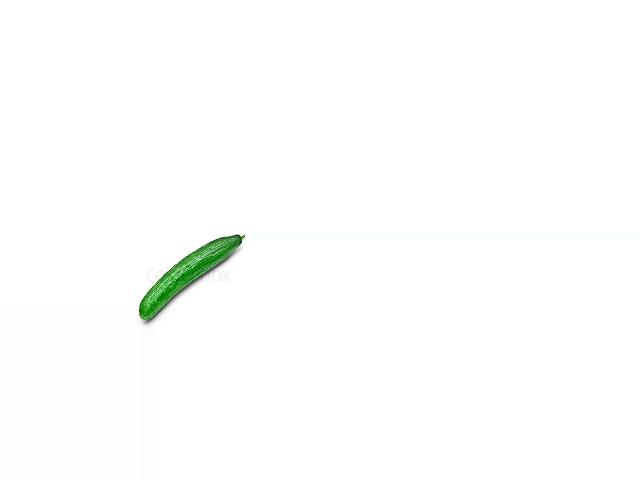cucumber: (139, 234, 246, 321)
